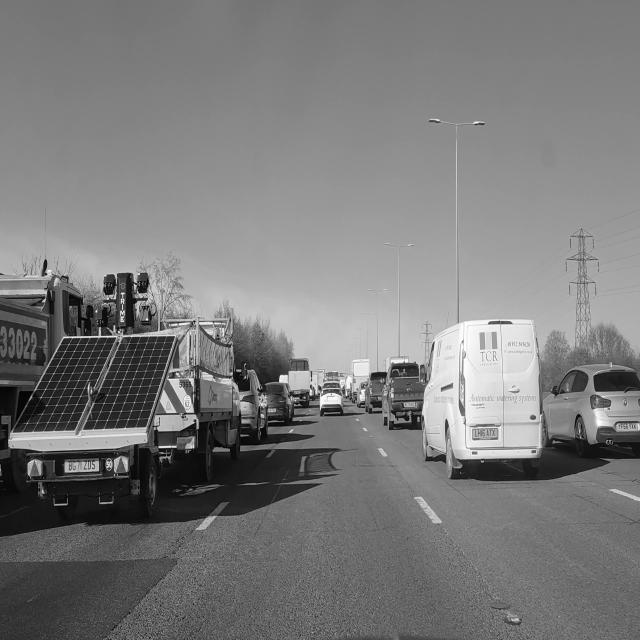car: (422, 320, 542, 478), (543, 364, 639, 456), (381, 354, 426, 434), (238, 370, 268, 443), (265, 382, 293, 424), (365, 372, 386, 413), (320, 383, 343, 416), (356, 382, 366, 408)
